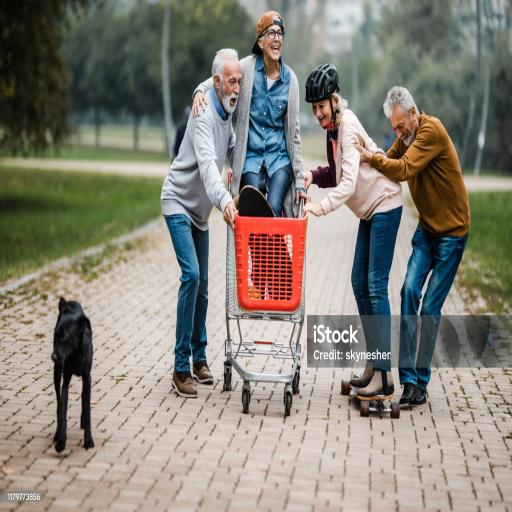shopping_cart: (223, 172, 308, 416)
